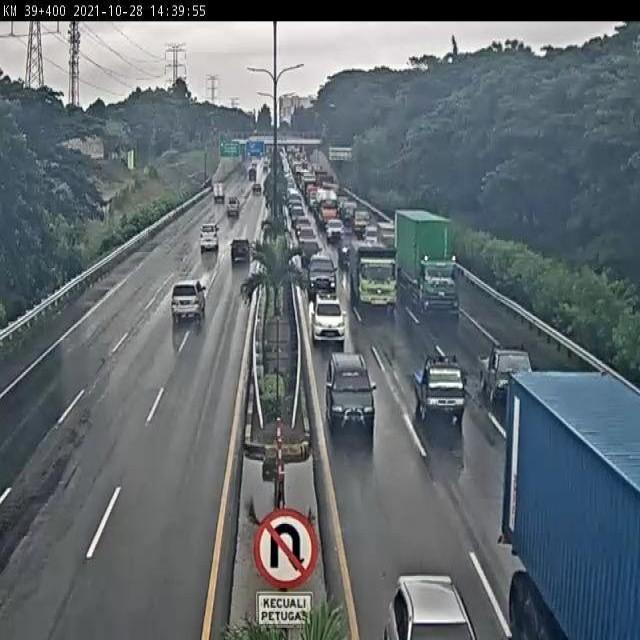big truck: (394, 207, 455, 312), (346, 243, 394, 304)
car: (325, 352, 376, 427), (412, 354, 466, 422), (478, 345, 535, 404), (310, 296, 346, 343), (171, 278, 205, 314), (307, 255, 336, 293), (299, 236, 323, 264), (199, 221, 221, 251), (377, 220, 398, 251), (338, 232, 357, 263), (350, 208, 372, 233), (229, 236, 250, 261), (326, 216, 345, 241), (223, 200, 238, 224), (362, 224, 381, 241)
